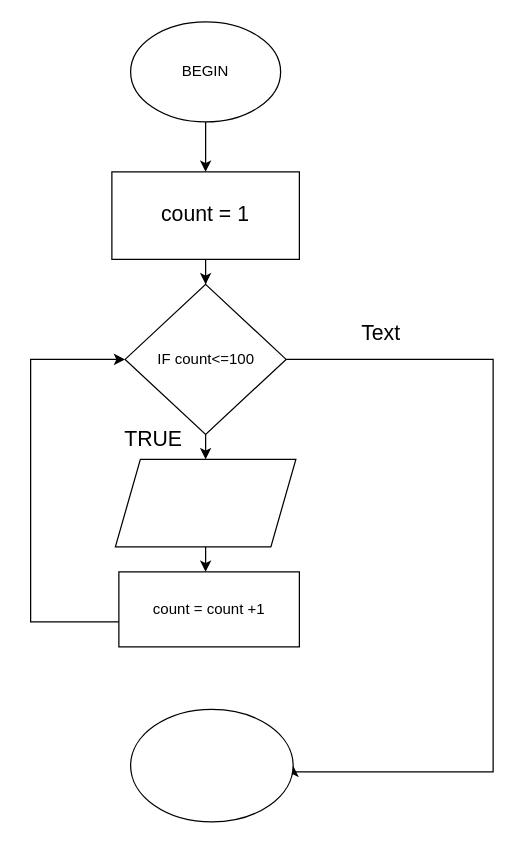
Some shapes in this 525 by 844 pixel diagram are drawn without their labels. Here are the shapes that lost their labels. From the top down, the centre of each, then its label:
point 205,502: DISPLAY "A0222I2"
point 211,765: END
